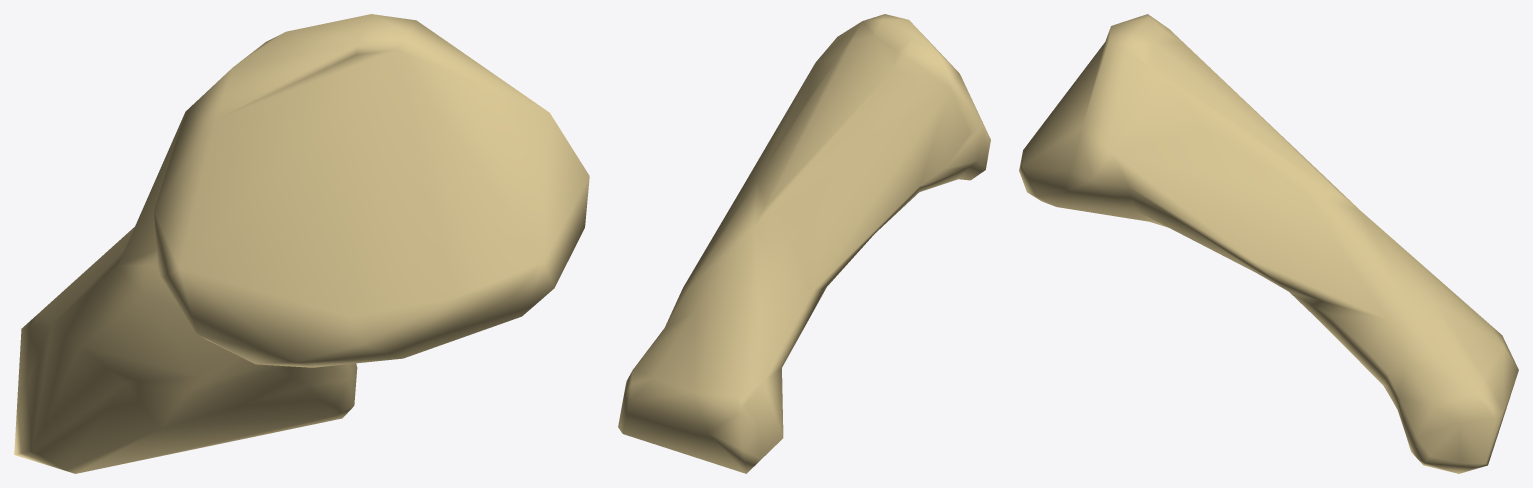
3 renders of one model, left to right at view 1: azimuth 30°, elevation 25°; view 2: azimuth 150°, elevation 25°; view 3: azimuth 270°, elevation 25°, orthographic. The views are drawn at different scales.
Parts seen in each view (by area): view 1: 右侧第五指中节指骨; view 2: 右侧第五指中节指骨; view 3: 右侧第五指中节指骨.
Part boxes in pixels (left/top/right/bottom): 右侧第五指中节指骨: left=14, top=14, right=589, bottom=473; 右侧第五指中节指骨: left=618, top=14, right=990, bottom=473; 右侧第五指中节指骨: left=1019, top=14, right=1518, bottom=473.
Size of the model in its own units: 0.0178 by 0.0255 by 0.0301.
